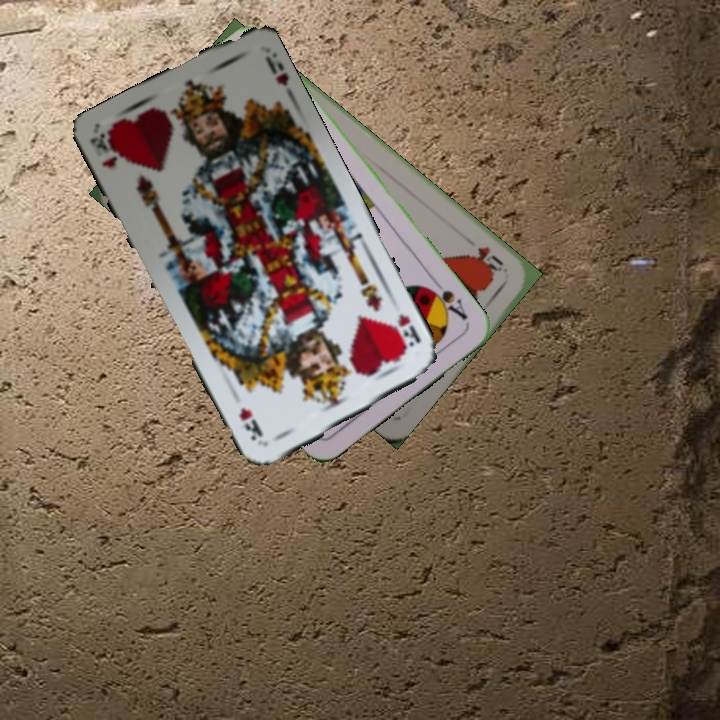HK: (86, 129, 123, 171), (393, 310, 424, 349)
HO: (468, 242, 506, 277)
SA: (422, 282, 471, 323)
